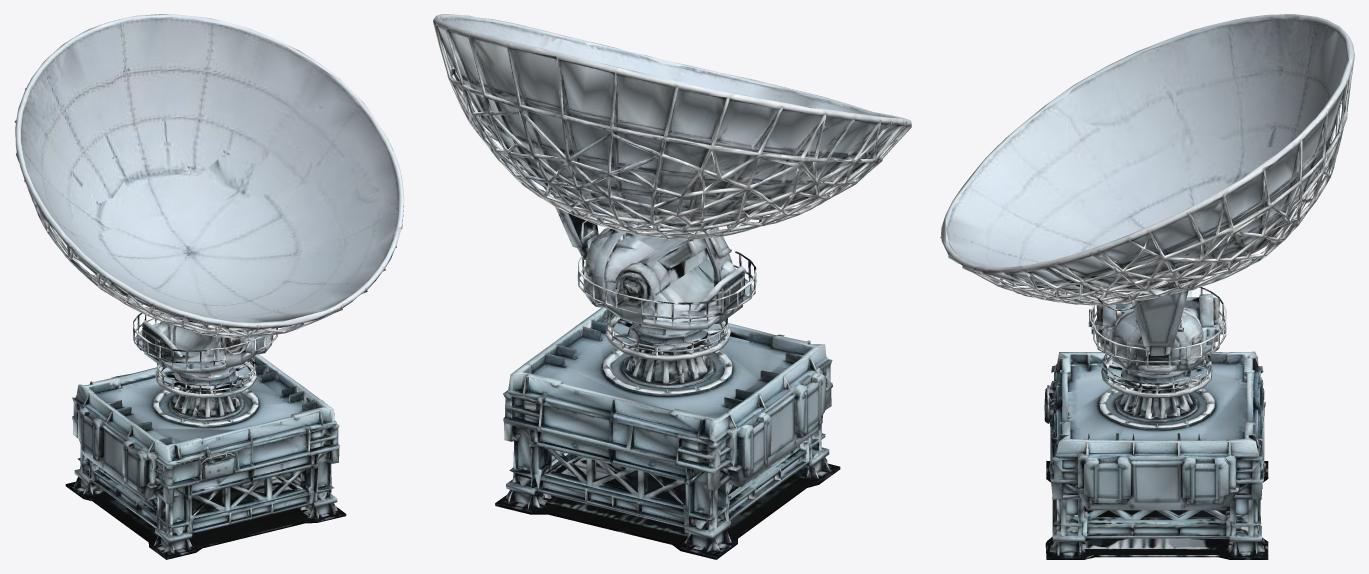
File: radar.glb
3 renders of one model, left to right at view 1: azimuth 30°, elevation 25°; view 2: azimuth 150°, elevation 25°; view 3: azimuth 270°, elevation 25°, orthographic. The views are drawn at different scales.
Parts seen in each view (by area): view 1: radar; view 2: radar; view 3: radar.
Boxes of the visible parts, left/top/right/bottom form: radar: left=14, top=14, right=404, bottom=559; radar: left=433, top=14, right=911, bottom=559; radar: left=940, top=14, right=1354, bottom=559.
Bounding box in the file's own units: 0.8528 × 1 × 0.8173.
1 material, 1 textured.
